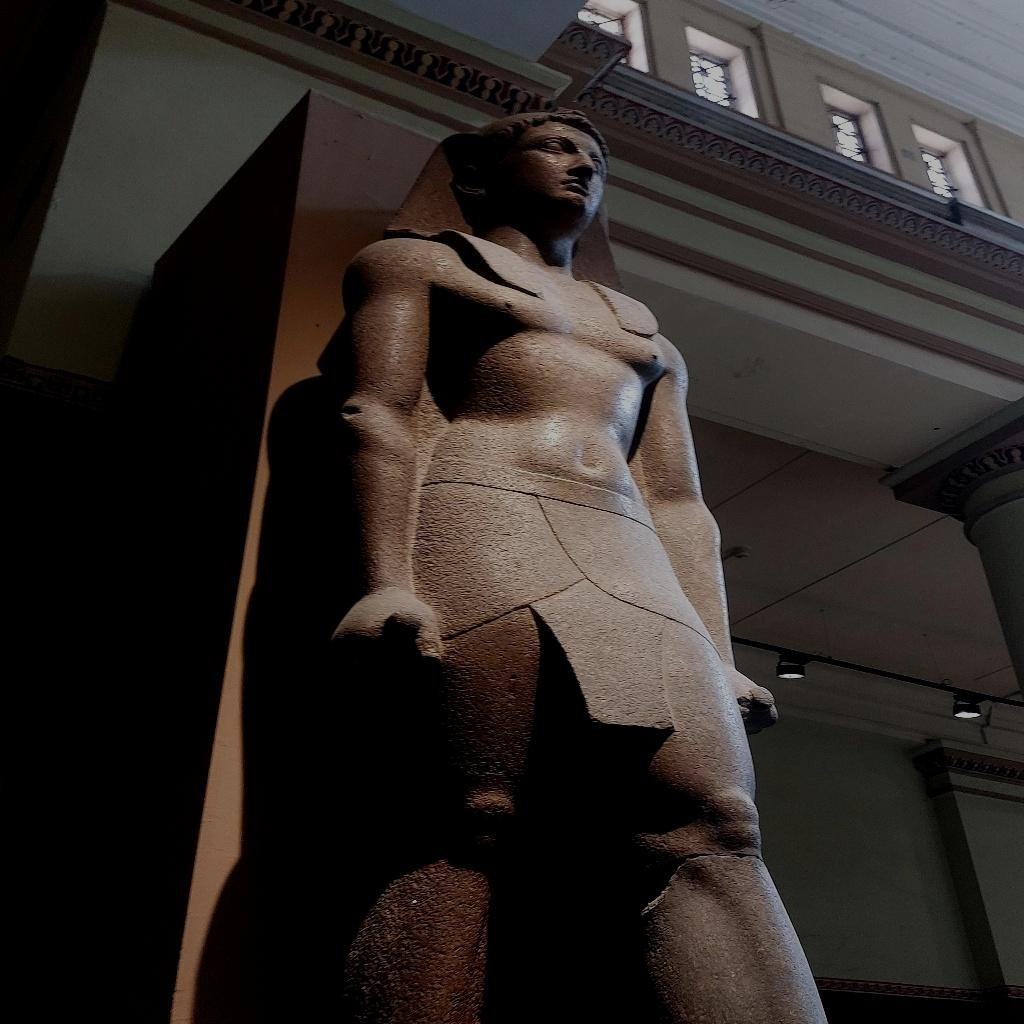Augustus: (322, 106, 830, 1022)
